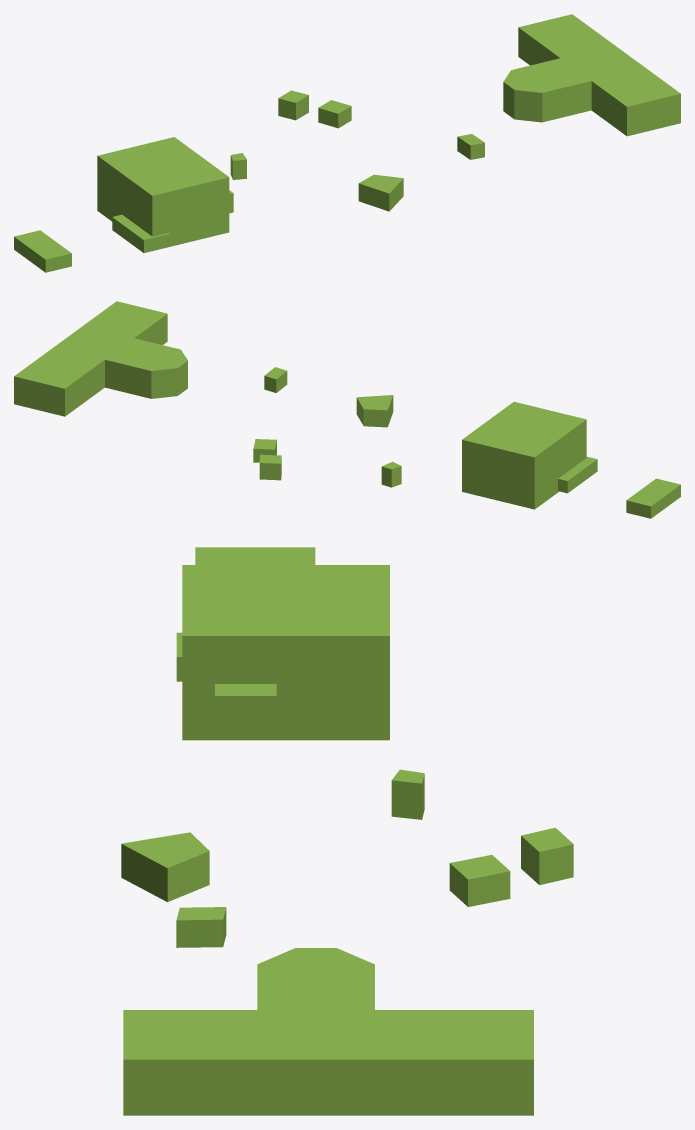
The model's file is sentwall_4_design.fbx.
3 views of the same model, one above another, from view 1: azimuth 30°, elevation 25°; view 2: azimuth 150°, elevation 25°; view 3: azimuth 270°, elevation 25° (orthographic). The views are drawn at different scales.
Parts seen in each view (by area): view 1: rain_blocker:weatherocculuder; view 2: rain_blocker:weatherocculuder; view 3: rain_blocker:weatherocculuder.
Boxes of the visible parts, left/top/right/bottom form: rain_blocker:weatherocculuder: left=14, top=14, right=680, bottom=272; rain_blocker:weatherocculuder: left=14, top=301, right=680, bottom=518; rain_blocker:weatherocculuder: left=121, top=547, right=573, bottom=1115.
Bounding box in the file's own units: 7878 × 23410 × 2177.
